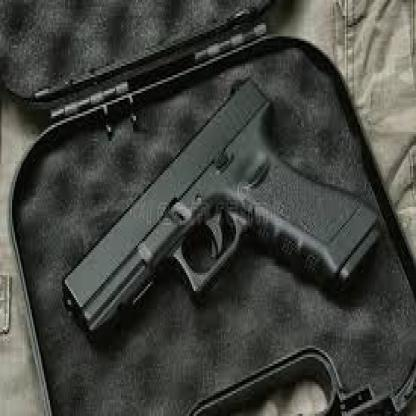Pistol: (59, 78, 380, 344)
